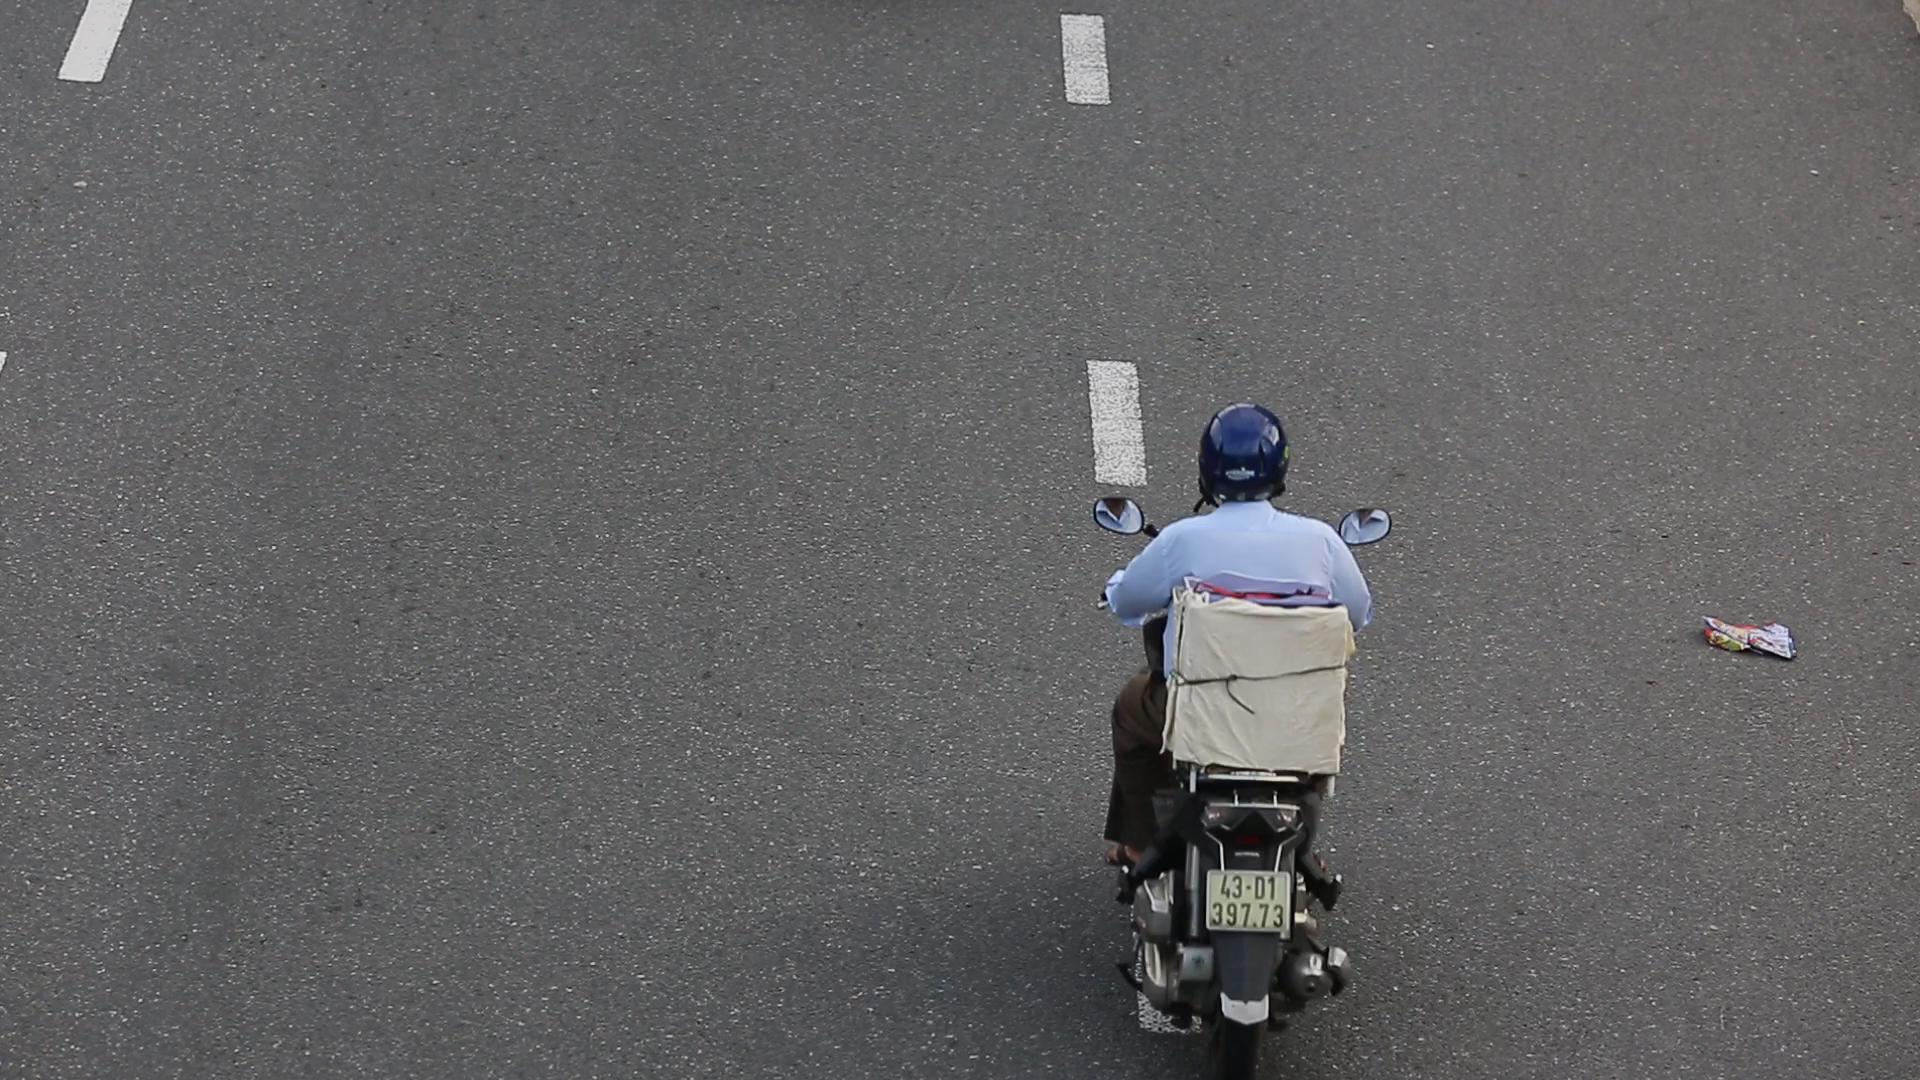motobike: (1083, 394, 1410, 1080)
